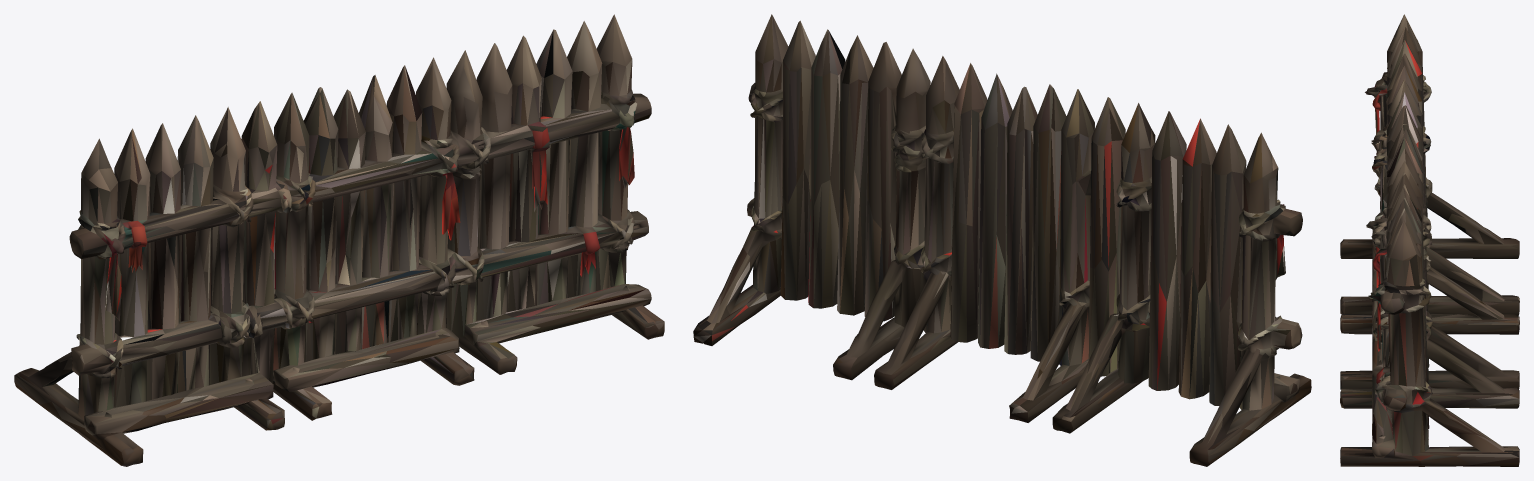
File: palisade.glb
3 views of the same model, side by side, from view 1: azimuth 30°, elevation 25°; view 2: azimuth 150°, elevation 25°; view 3: azimuth 270°, elevation 25° (orthographic). The views are drawn at different scales.
Parts seen in each view (by area): view 1: palisade; view 2: palisade; view 3: palisade.
Part boxes in pixels (left/top/right/bottom): palisade: left=14, top=14, right=664, bottom=466; palisade: left=693, top=14, right=1311, bottom=466; palisade: left=1340, top=14, right=1519, bottom=466.
Size of the model in its own units: 6 by 3 by 2.
Materials: 1 (1 with a texture image).
